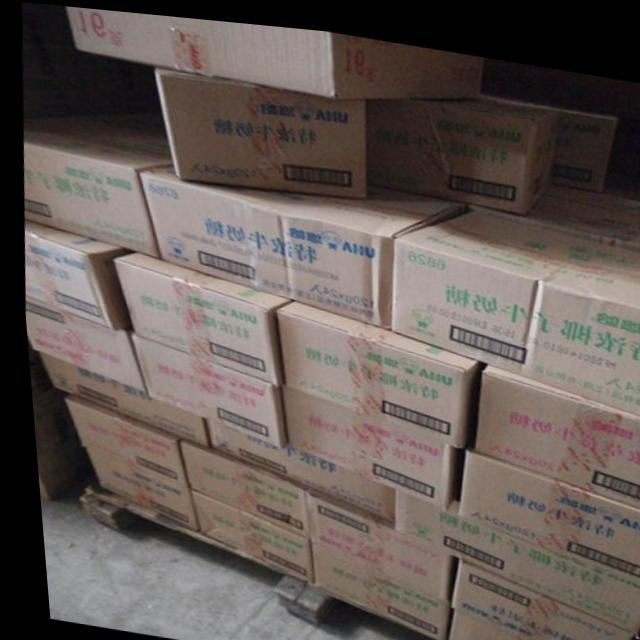box: (136, 161, 463, 324), (383, 201, 640, 405), (66, 5, 481, 92), (386, 485, 640, 622), (273, 294, 471, 439), (152, 60, 364, 190), (450, 440, 640, 577), (466, 355, 640, 499), (110, 249, 287, 382), (364, 85, 560, 204), (276, 376, 448, 501), (198, 416, 390, 516), (20, 132, 167, 255), (125, 331, 281, 443), (296, 482, 442, 595), (440, 552, 625, 640), (35, 352, 201, 445), (301, 535, 440, 635), (172, 434, 301, 536), (20, 220, 131, 332), (181, 483, 306, 578), (20, 296, 140, 391), (58, 393, 181, 484), (77, 445, 191, 528), (481, 183, 640, 241), (365, 161, 538, 205), (547, 97, 617, 182), (436, 600, 537, 640), (539, 170, 640, 202)
